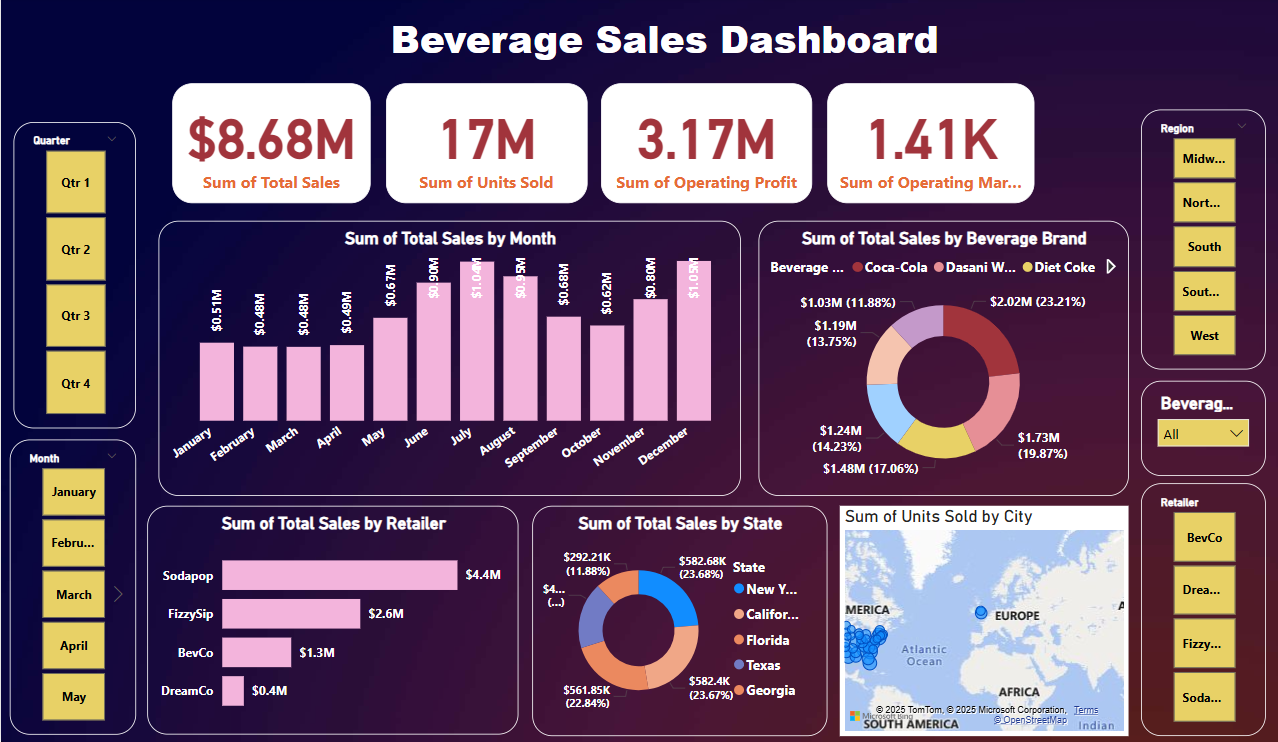

This screenshot's page, from the dashboard's own definition file:
{"tool":"powerbi","page":{"name":"Page 1","canvas":[1281,746],"ordinal":0},"visuals":[{"type":"slicer","fields":{"Values":["Sheet1.Retailer"]},"box":[1140,486.3,125,252.5],"z":0},{"type":"slicer","fields":{"Values":["Sheet1.Region"]},"box":[1140,112.5,125,260],"z":1000},{"type":"slicer","fields":{"Values":["Sheet1.Invoice Date.Variation.Date Hierarchy.Month"]},"box":[8.8,442.5,126.3,295],"z":2000},{"type":"slicer","fields":{"Values":["Sheet1.Invoice Date.Variation.Date Hierarchy.Quarter"]},"box":[12.5,125,122.5,306.3],"z":3000},{"type":"slicer","fields":{"Values":["Sheet1.Beverage Brand"]},"box":[1140,383.8,125,95],"z":4000},{"type":"card","fields":{"Values":["Sum(Sheet1.Total Sales)"]},"box":[171.3,86.3,198.8,120],"z":5000},{"type":"card","fields":{"Values":["Sum(Sheet1.Units Sold)"]},"box":[385,86.3,201.3,120],"z":6000},{"type":"card","fields":{"Values":["Sum(Sheet1.Operating Profit)"]},"box":[600,86.3,211.3,120],"z":7000},{"type":"card","fields":{"Values":["Sum(Sheet1.Operating Margin)"]},"box":[826.3,86.3,207.5,120],"z":8000},{"type":"columnChart","fields":{"Category":["Sheet1.Invoice Date.Variation.Date Hierarchy.Month"],"Y":["Sum(Sheet1.Total Sales)"]},"box":[157.5,223.8,582.5,275],"z":9000},{"type":"donutChart","fields":{"Y":["Sum(Sheet1.Total Sales)"],"Category":["Sheet1.Beverage Brand"]},"box":[757.5,223.8,370,275],"z":10000},{"type":"barChart","fields":{"Y":["Sum(Sheet1.Total Sales)"],"Category":["Sheet1.Retailer"]},"box":[146.3,508.8,371.3,228.8],"z":11000},{"type":"donutChart","fields":{"Y":["Sum(Sheet1.Total Sales)"],"Category":["Sheet1.State"]},"box":[531.3,508.8,295,230],"z":12000},{"type":"textbox","box":[135,10,1057.5,76.3],"z":13000},{"type":"map","fields":{"Category":["Sheet1.City"],"Size":["Sum(Sheet1.Units Sold)"]},"box":[838.8,508.8,288.8,230],"z":14000}]}

Visuals, with their boxes in screenshot pixels (x1, y1, x2, y2), scaled from the page's 1281x746 canvas onto the 1278x742 screenshot:
slicer - Sheet1.Retailer: bbox=[1137, 484, 1262, 735]
slicer - Sheet1.Region: bbox=[1137, 112, 1262, 371]
slicer - Sheet1.Invoice Date.Variation.Date Hierarchy.Month: bbox=[9, 440, 135, 734]
slicer - Sheet1.Invoice Date.Variation.Date Hierarchy.Quarter: bbox=[12, 124, 135, 429]
slicer - Sheet1.Beverage Brand: bbox=[1137, 382, 1262, 476]
card - Sum(Sheet1.Total Sales): bbox=[171, 86, 369, 205]
card - Sum(Sheet1.Units Sold): bbox=[384, 86, 585, 205]
card - Sum(Sheet1.Operating Profit): bbox=[599, 86, 809, 205]
card - Sum(Sheet1.Operating Margin): bbox=[824, 86, 1031, 205]
columnChart - Sheet1.Invoice Date.Variation.Date Hierarchy.Month x Sum(Sheet1.Total Sales): bbox=[157, 223, 738, 496]
donutChart - Sum(Sheet1.Total Sales) x Sheet1.Beverage Brand: bbox=[756, 223, 1125, 496]
barChart - Sum(Sheet1.Total Sales) x Sheet1.Retailer: bbox=[146, 506, 516, 734]
donutChart - Sum(Sheet1.Total Sales) x Sheet1.State: bbox=[530, 506, 824, 735]
textbox: bbox=[135, 10, 1190, 86]
map - Sheet1.City x Sum(Sheet1.Units Sold): bbox=[837, 506, 1125, 735]
